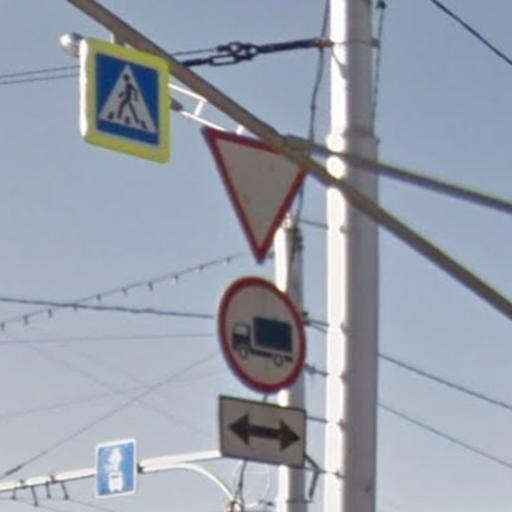traffic_sign: (200, 124, 314, 266), (217, 277, 310, 396)
